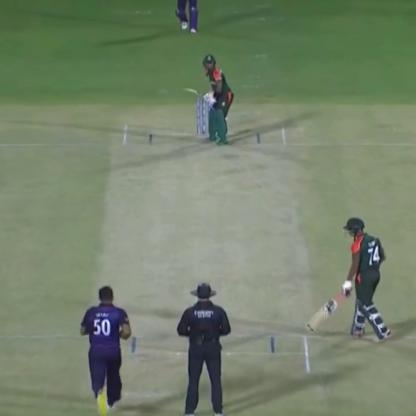bat: (306, 290, 348, 336), (179, 82, 211, 107)
pitch: (104, 105, 317, 380)
